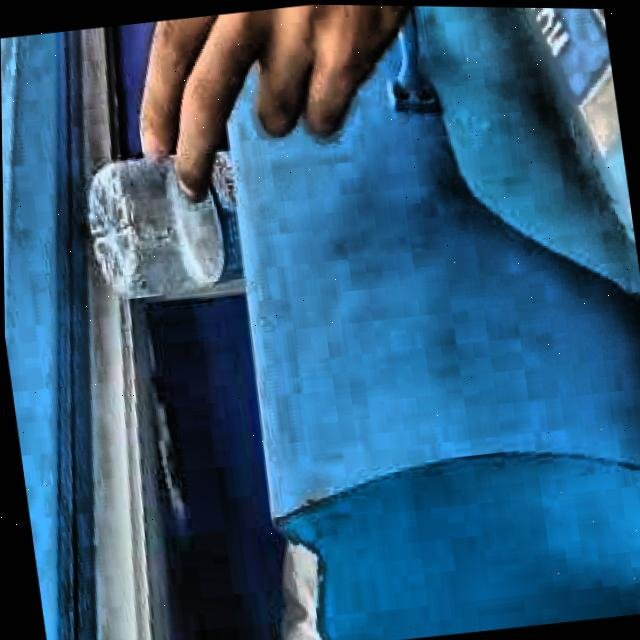plastic: (86, 147, 240, 298)
